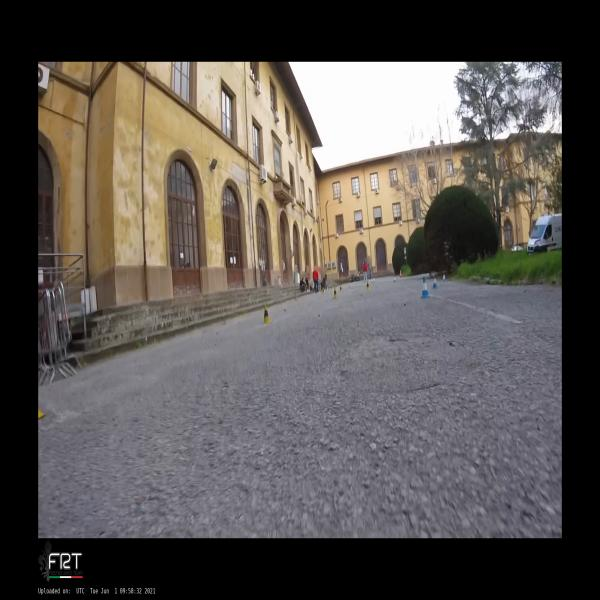blue_cone: (420, 276, 430, 298), (432, 277, 438, 289), (442, 273, 447, 282), (393, 276, 397, 283)
large_orange_cone: (399, 270, 402, 278)
yellow_cone: (262, 304, 272, 324), (332, 286, 339, 299), (366, 282, 370, 290), (340, 286, 343, 292)
